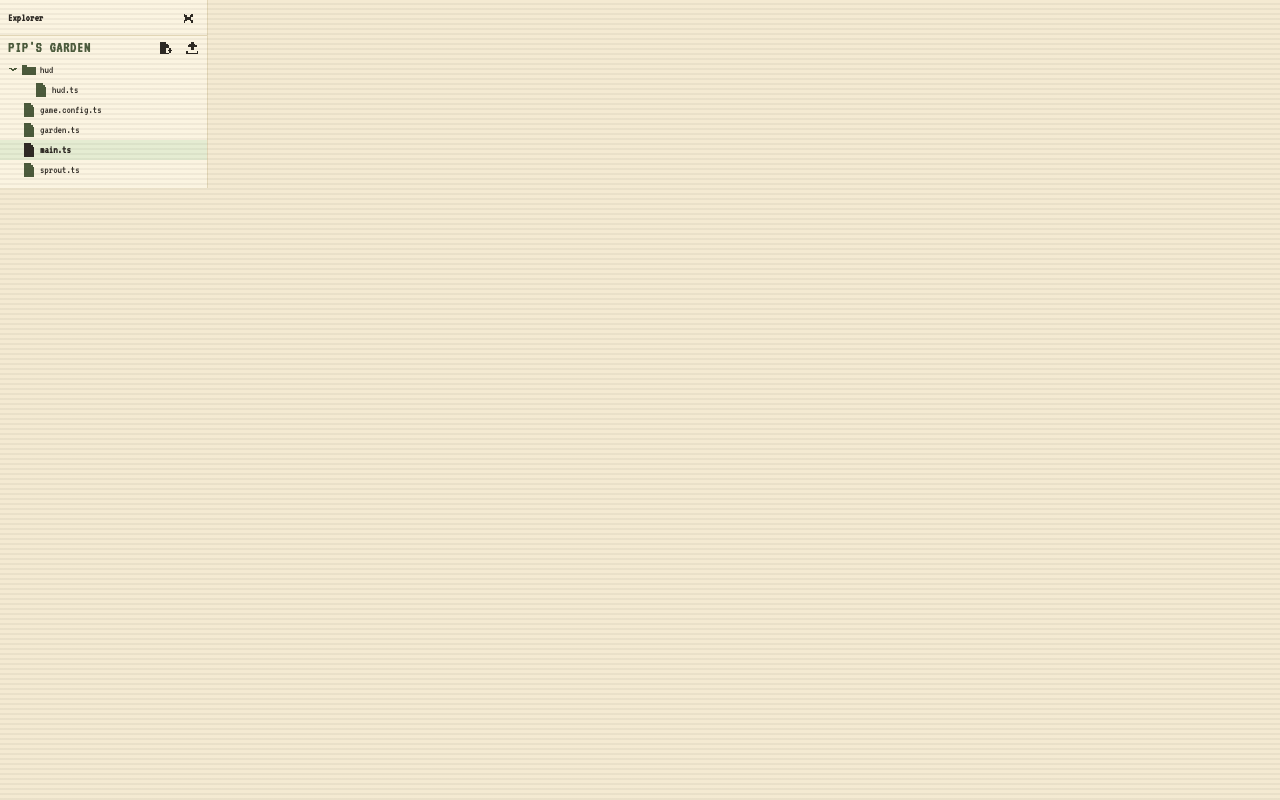
Test case: ExplorerPanel › removes a file from its own menu rather than from a button on the panel
Right-click the list item with class "tree__item" showing "main.ts": point(104, 150) [0,140,207,160]
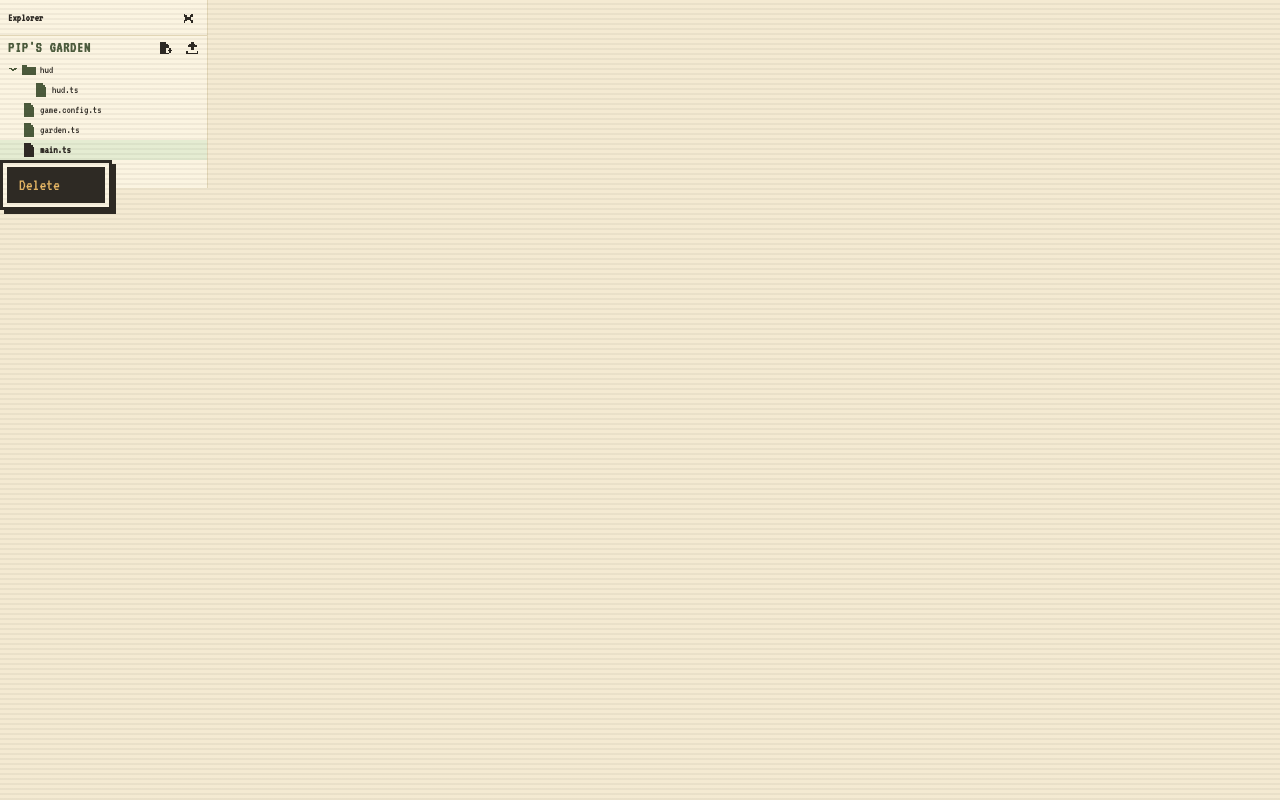
Click the menu item "Delete": point(56, 185) [7,167,105,203]
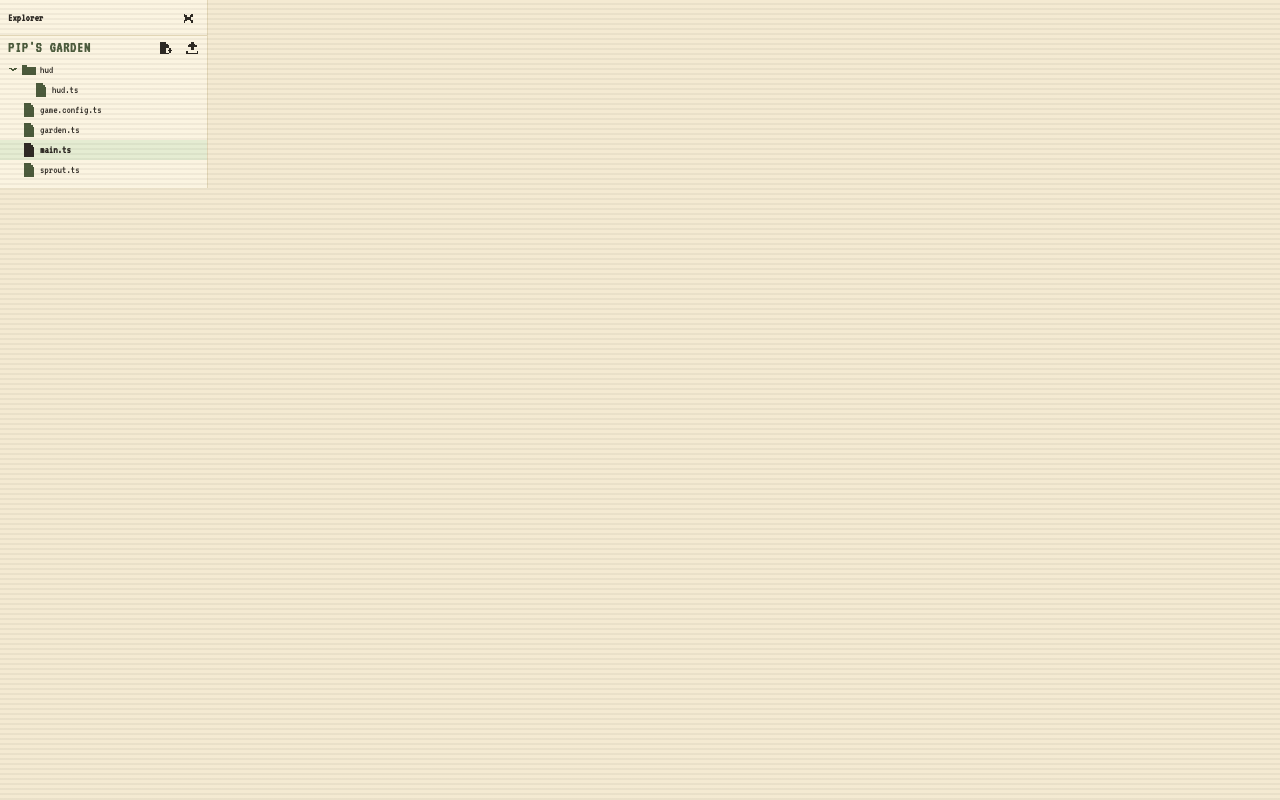
Result: the menu is gone
